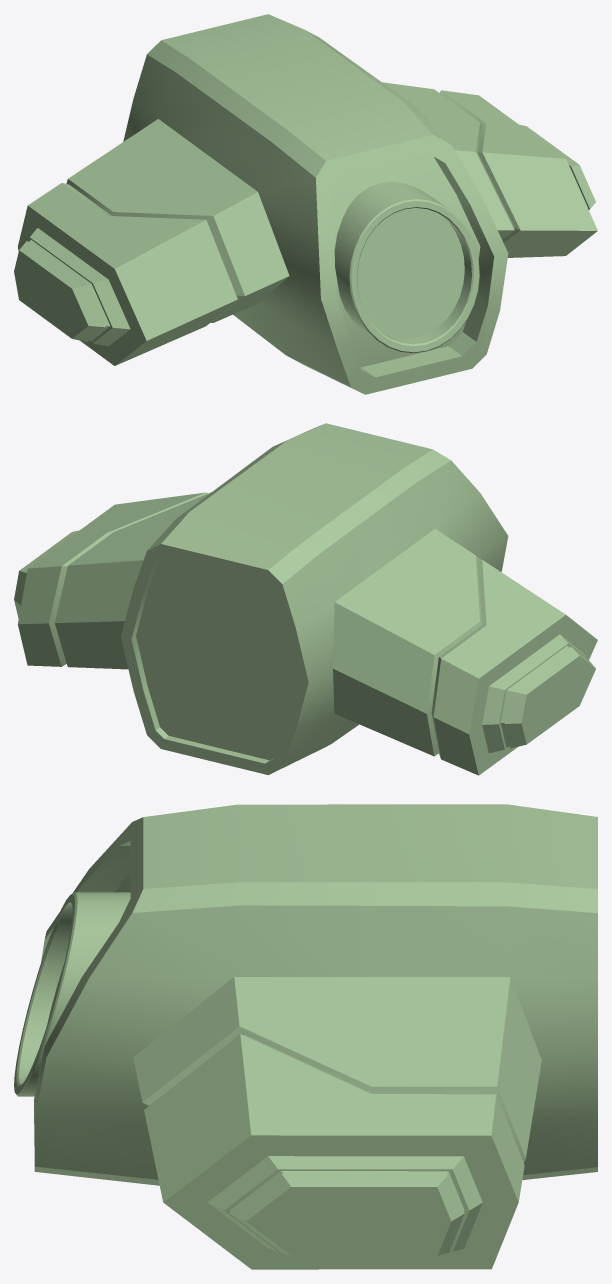
File: Enemey_E.fbx
3 renders of one model, top to bottom at view 1: azimuth 30°, elevation 25°; view 2: azimuth 150°, elevation 25°; view 3: azimuth 270°, elevation 25°, orthographic. The views are drawn at different scales.
Parts seen in each view (by area): view 1: Cube; view 2: Cube; view 3: Cube.
Part boxes in pixels (x1,y1,x2,y2): Cube: (14, 14, 597, 394); Cube: (14, 423, 597, 775); Cube: (14, 804, 597, 1269).
Bounding box in the file's own units: 518 × 216 × 374.
